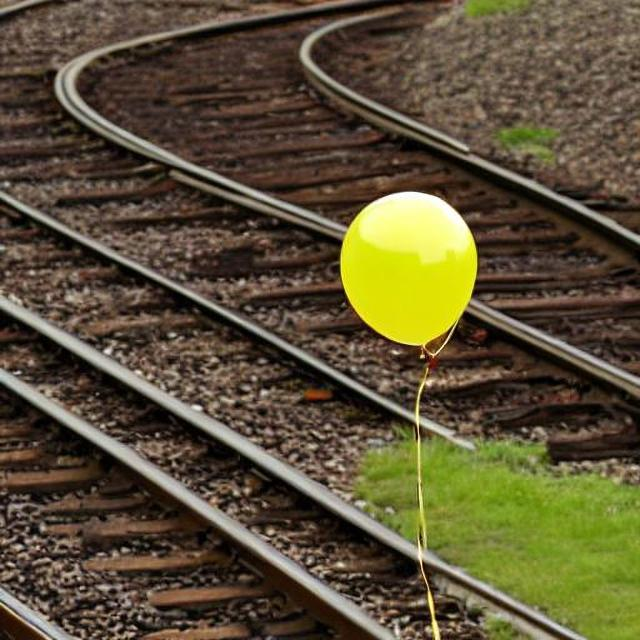balloon: (333, 186, 478, 358)
